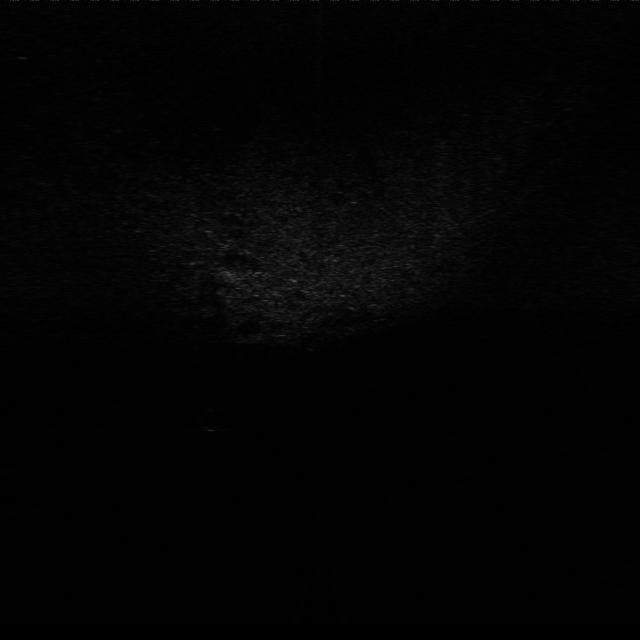ball: (193, 402, 233, 435)
